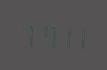nine: (35, 19, 51, 49)
one: (52, 19, 68, 50), (69, 20, 85, 51)
seven: (18, 18, 34, 48)
